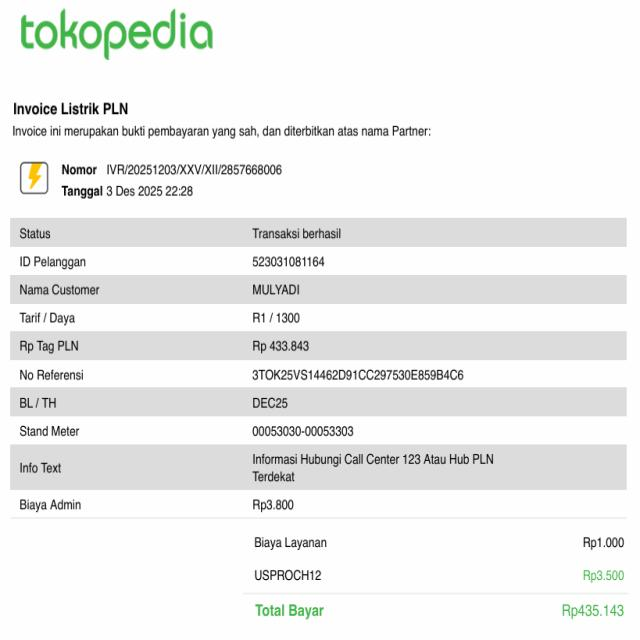date: (61, 182, 196, 199)
store: (16, 10, 222, 58), (9, 99, 134, 120)
total: (252, 599, 631, 627)
